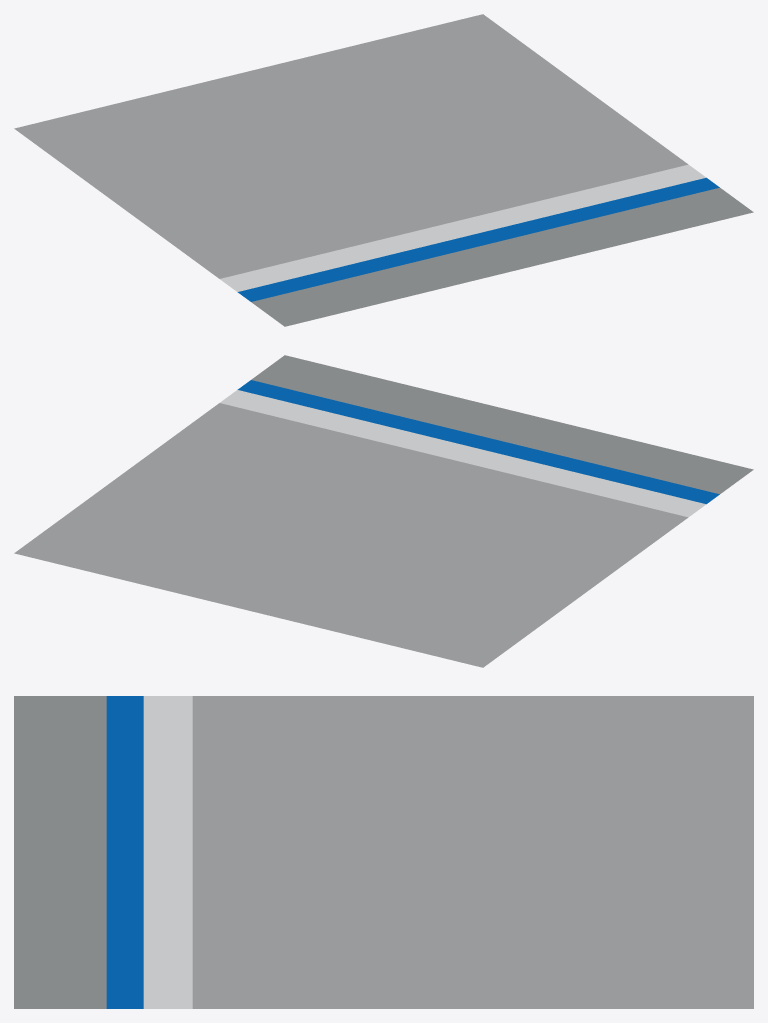
File: Ceiling_type_A_046.fbx
3 renders of one model, top to bottom at view 1: azimuth 30°, elevation 25°; view 2: azimuth 150°, elevation 25°; view 3: azimuth 270°, elevation 25°, orthographic. The views are drawn at different scales.
Visible parts, largest first — view 1: Ceiling_type_A_046; view 2: Ceiling_type_A_046; view 3: Ceiling_type_A_046.
Boxes of the visible parts, <box> form: Ceiling_type_A_046: <box>14,14,753,326</box>; Ceiling_type_A_046: <box>14,355,753,667</box>; Ceiling_type_A_046: <box>14,696,753,1008</box>.
Size of the model in its own units: 400 by 400 by 3.5.
